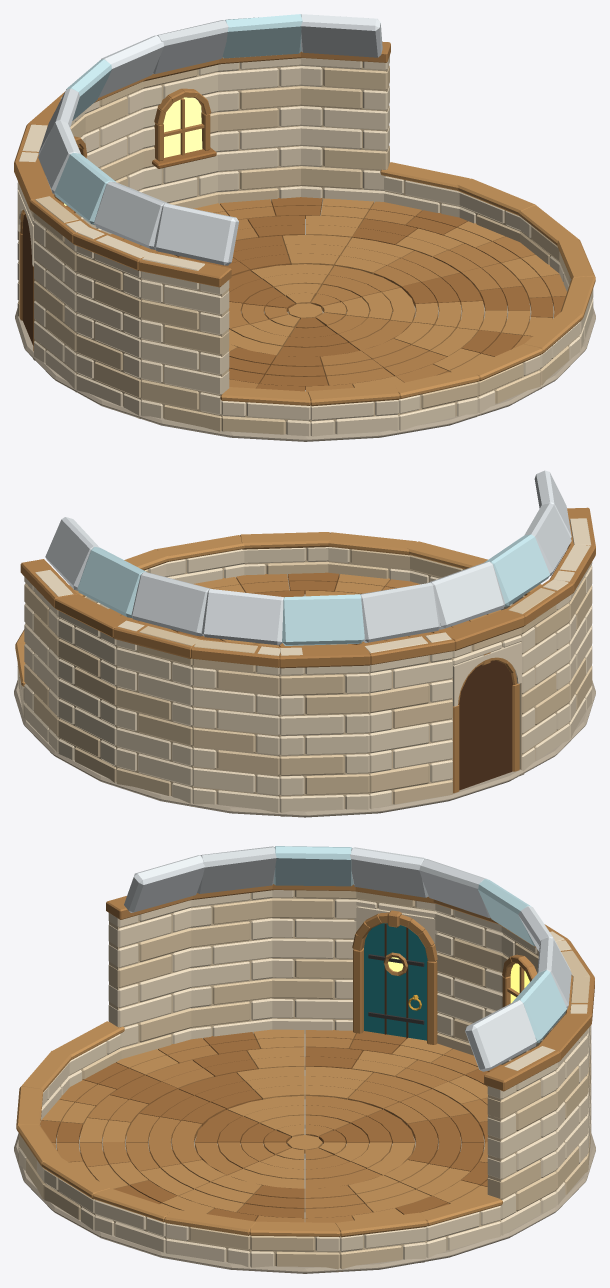
The model's file is snow_dome_t2_interior.glb.
The picture shows the model from 3 angles, top to bottom: view 1: azimuth 30°, elevation 25°; view 2: azimuth 150°, elevation 25°; view 3: azimuth 270°, elevation 25°; orthographic projection.
Parts seen in each view (by area): view 1: snow_dome_t2_interior; view 2: snow_dome_t2_interior; view 3: snow_dome_t2_interior, part_door_leaf.
Boxes of the visible parts, x1,y1,x2,y2 form: snow_dome_t2_interior: (14, 14, 595, 441); snow_dome_t2_interior: (14, 470, 595, 817); snow_dome_t2_interior: (14, 846, 595, 1273); part_door_leaf: (364, 923, 427, 1040).
Bounding box in the file's own units: 6.57 × 2.53 × 6.57.
